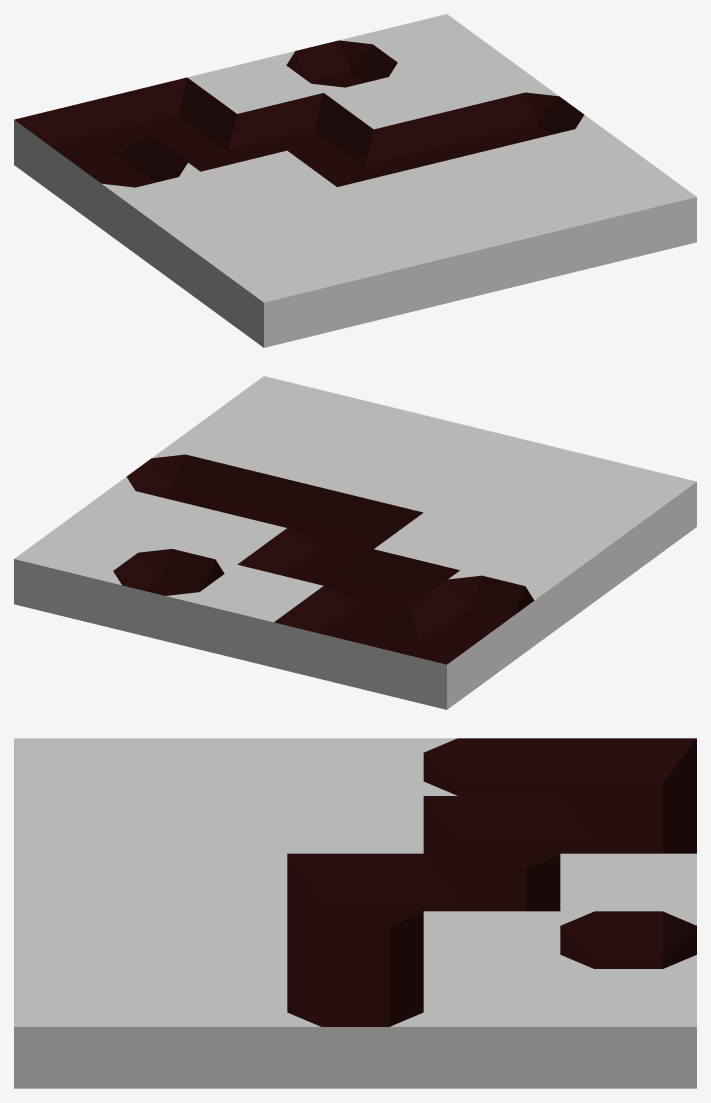
The picture shows the model from 3 angles, top to bottom: view 1: azimuth 30°, elevation 25°; view 2: azimuth 150°, elevation 25°; view 3: azimuth 270°, elevation 25°; orthographic projection. The views are drawn at different scales.
Parts seen in each view (by area): view 1: block.0.0_block.001, block.3.0_block.010, block.1.0_block.004, block.4.0_block.014, block.2.0_block.007, corner.0.4_corner.001, block.0.2_block.003, block.0.1_block.002, corner.1.4_corner.003, corner.2.3_corner.005, ending.0.3_ending.001, ending.4.2_ending.002 (+13 smaller); view 2: corner.0.4_corner.001, block.3.4_Cube.025, block.4.4_block.017, block.2.4_block.009, ending.0.3_ending.001, corner.1.4_corner.003, block.0.0_block.001, block.0.1_block.002, block.0.2_block.003, ending.4.2_ending.002, corner.2.2_corner.004, corner.1.3_corner.002 (+13 smaller); view 3: block.4.1_block.015, block.4.3_block.016, block.4.0_block.014, block.4.4_block.017, ending.4.2_ending.002, corner.2.2_corner.004, corner.1.3_corner.002, corner.0.4_corner.001, block.2.1_block.008, block.2.0_block.007, block.2.4_block.009, block.0.1_block.002 (+13 smaller).
Boxes of the visible parts, x1,y1,x2,y2 form: block.0.0_block.001: [214, 245, 350, 347]; block.3.0_block.010: [474, 181, 610, 284]; block.1.0_block.004: [301, 224, 437, 326]; block.4.0_block.014: [560, 160, 696, 263]; block.2.0_block.007: [387, 202, 523, 305]; corner.0.4_corner.001: [14, 98, 149, 201]; block.0.2_block.003: [114, 172, 249, 274]; block.0.1_block.002: [164, 208, 299, 310]; corner.1.4_corner.003: [100, 77, 236, 151]; corner.2.3_corner.005: [237, 93, 373, 167]; ending.0.3_ending.001: [64, 135, 200, 237]; ending.4.2_ending.002: [460, 87, 596, 150]; corner.0.4_corner.001: [360, 607, 496, 709]; block.3.4_Cube.025: [100, 543, 236, 646]; block.4.4_block.017: [14, 522, 150, 625]; block.2.4_block.009: [187, 564, 323, 667]; ending.0.3_ending.001: [411, 570, 546, 672]; corner.1.4_corner.003: [273, 586, 410, 688]; block.0.0_block.001: [561, 460, 696, 563]; block.0.1_block.002: [510, 497, 646, 599]; block.0.2_block.003: [461, 534, 596, 636]; ending.4.2_ending.002: [114, 449, 250, 512]; corner.2.2_corner.004: [287, 491, 423, 566]; corner.1.3_corner.002: [324, 549, 459, 623]; block.4.1_block.015: [150, 969, 287, 1088]; block.4.3_block.016: [423, 969, 560, 1088]; block.4.0_block.014: [14, 969, 150, 1088]; block.4.4_block.017: [560, 969, 696, 1088]; ending.4.2_ending.002: [287, 969, 423, 1088]; corner.2.2_corner.004: [287, 853, 423, 942]; corner.1.3_corner.002: [423, 796, 560, 884]; corner.0.4_corner.001: [560, 738, 696, 826]; block.2.1_block.008: [150, 853, 287, 911]; block.2.0_block.007: [14, 853, 150, 911]; block.2.4_block.009: [560, 853, 696, 911]; block.0.1_block.002: [150, 738, 287, 795].
Bounding box in the file's own units: 10 × 1 × 10.
